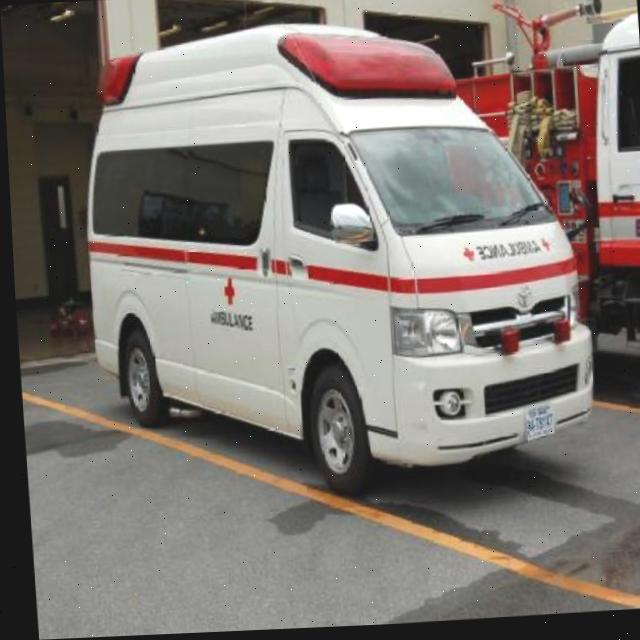emergency: (70, 9, 596, 511)
